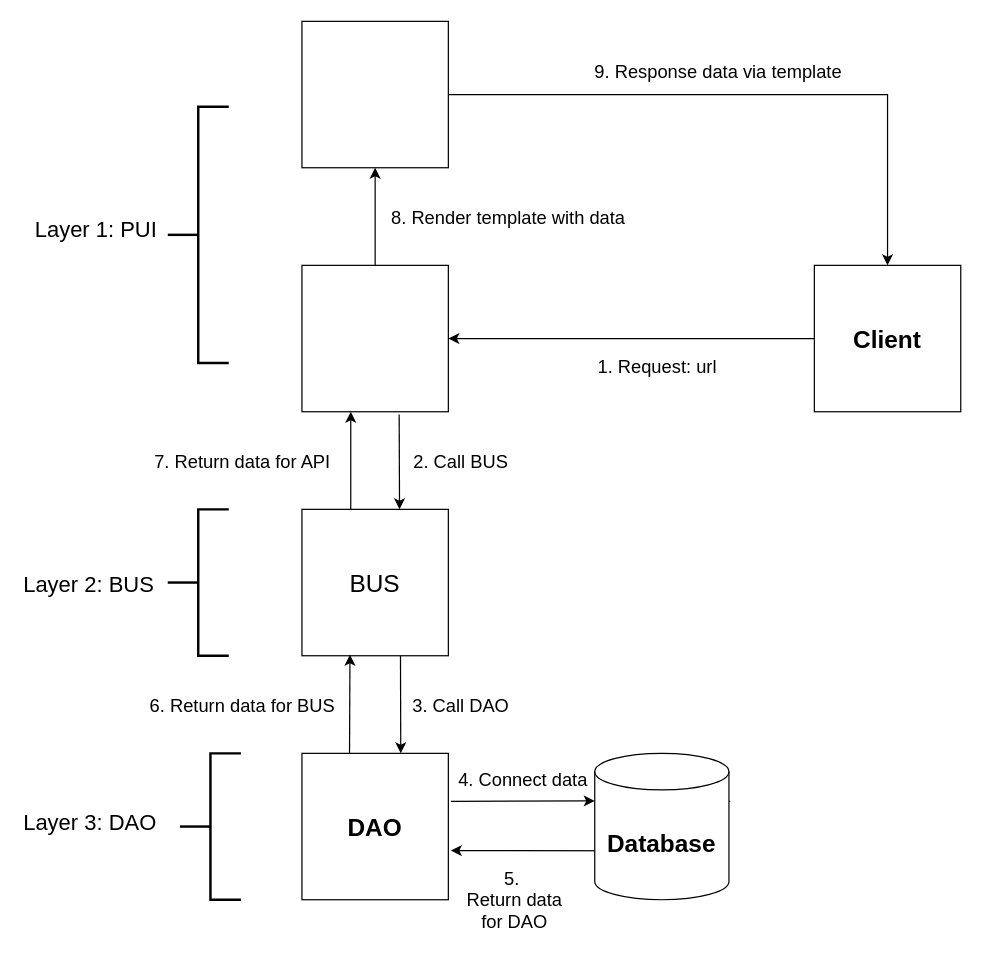
Image size: 982x954. Some labels were removed from this diagram. The shapes that lost their labels are listed below. From the top down, each one's centre as x and y in pixels, then its label:
the point at 374,94: PUI
the point at 374,338: API
